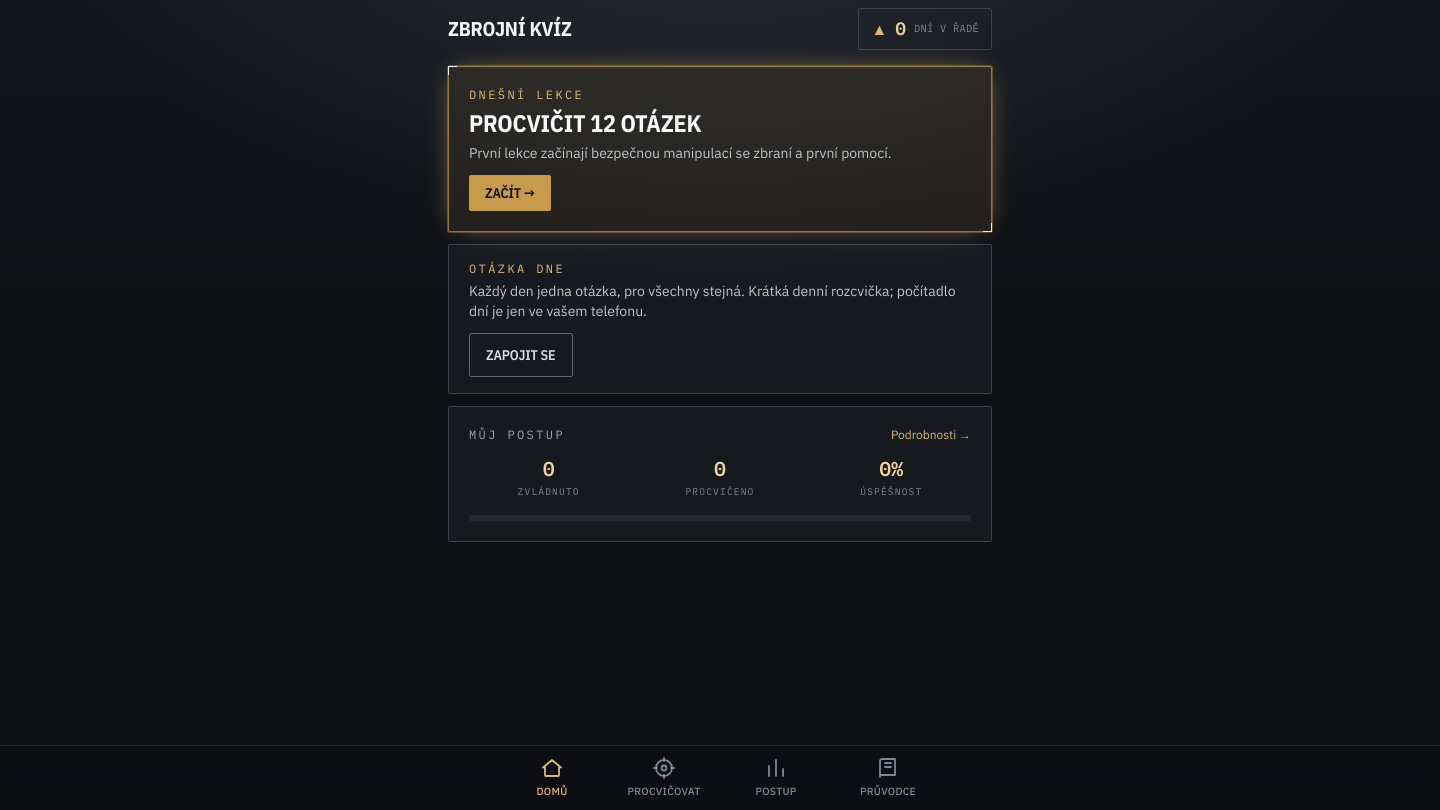
it: learner: Poslat instruktorovi › a join link (/?trida=CODE) fills the code in, then leaves the address bar clean
Click the button "Postup".
click(776, 778)  # box [720,746,832,809]
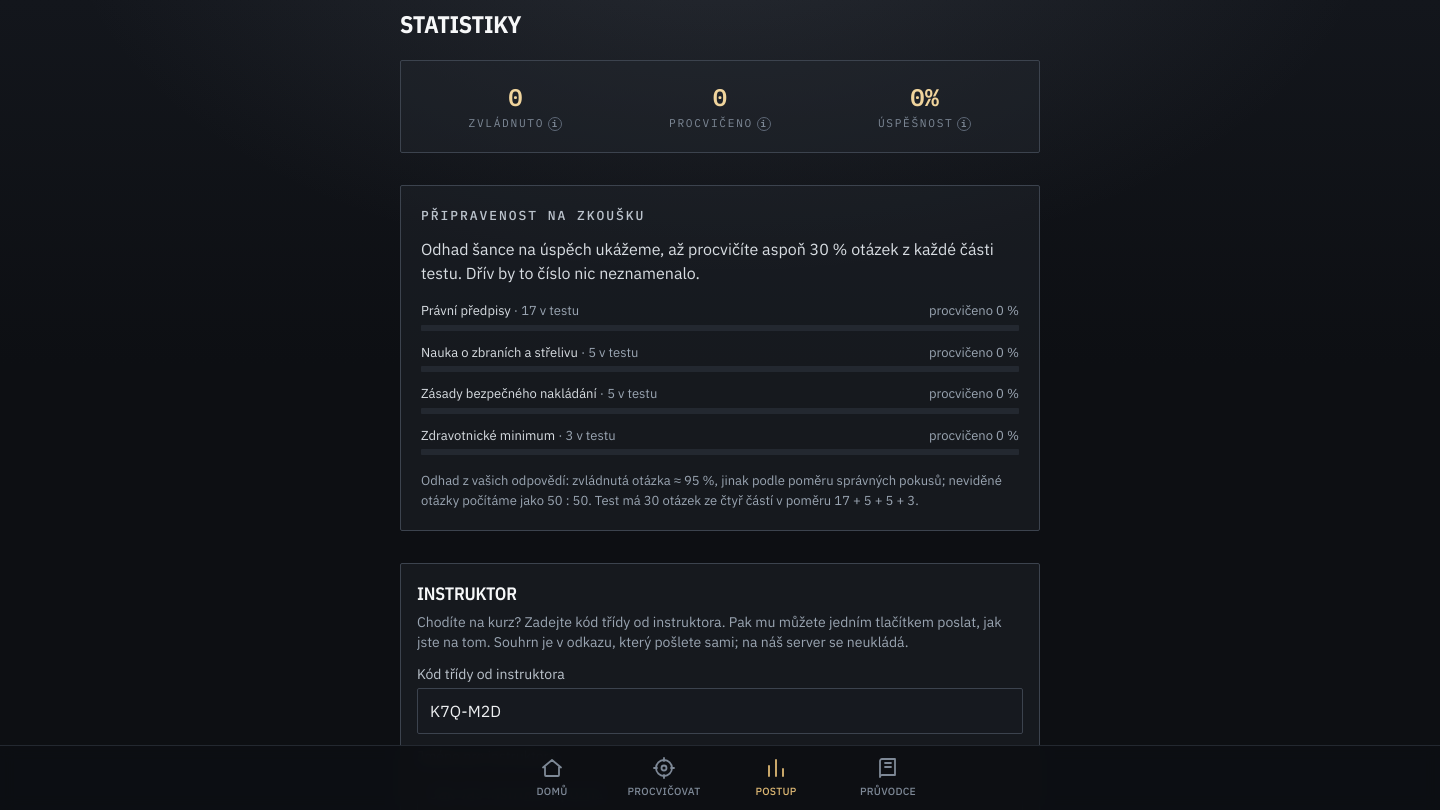
Check: the field labelled "Kód třídy od instruktora" holds "K7Q-M2D", box [417,688,1023,734]
